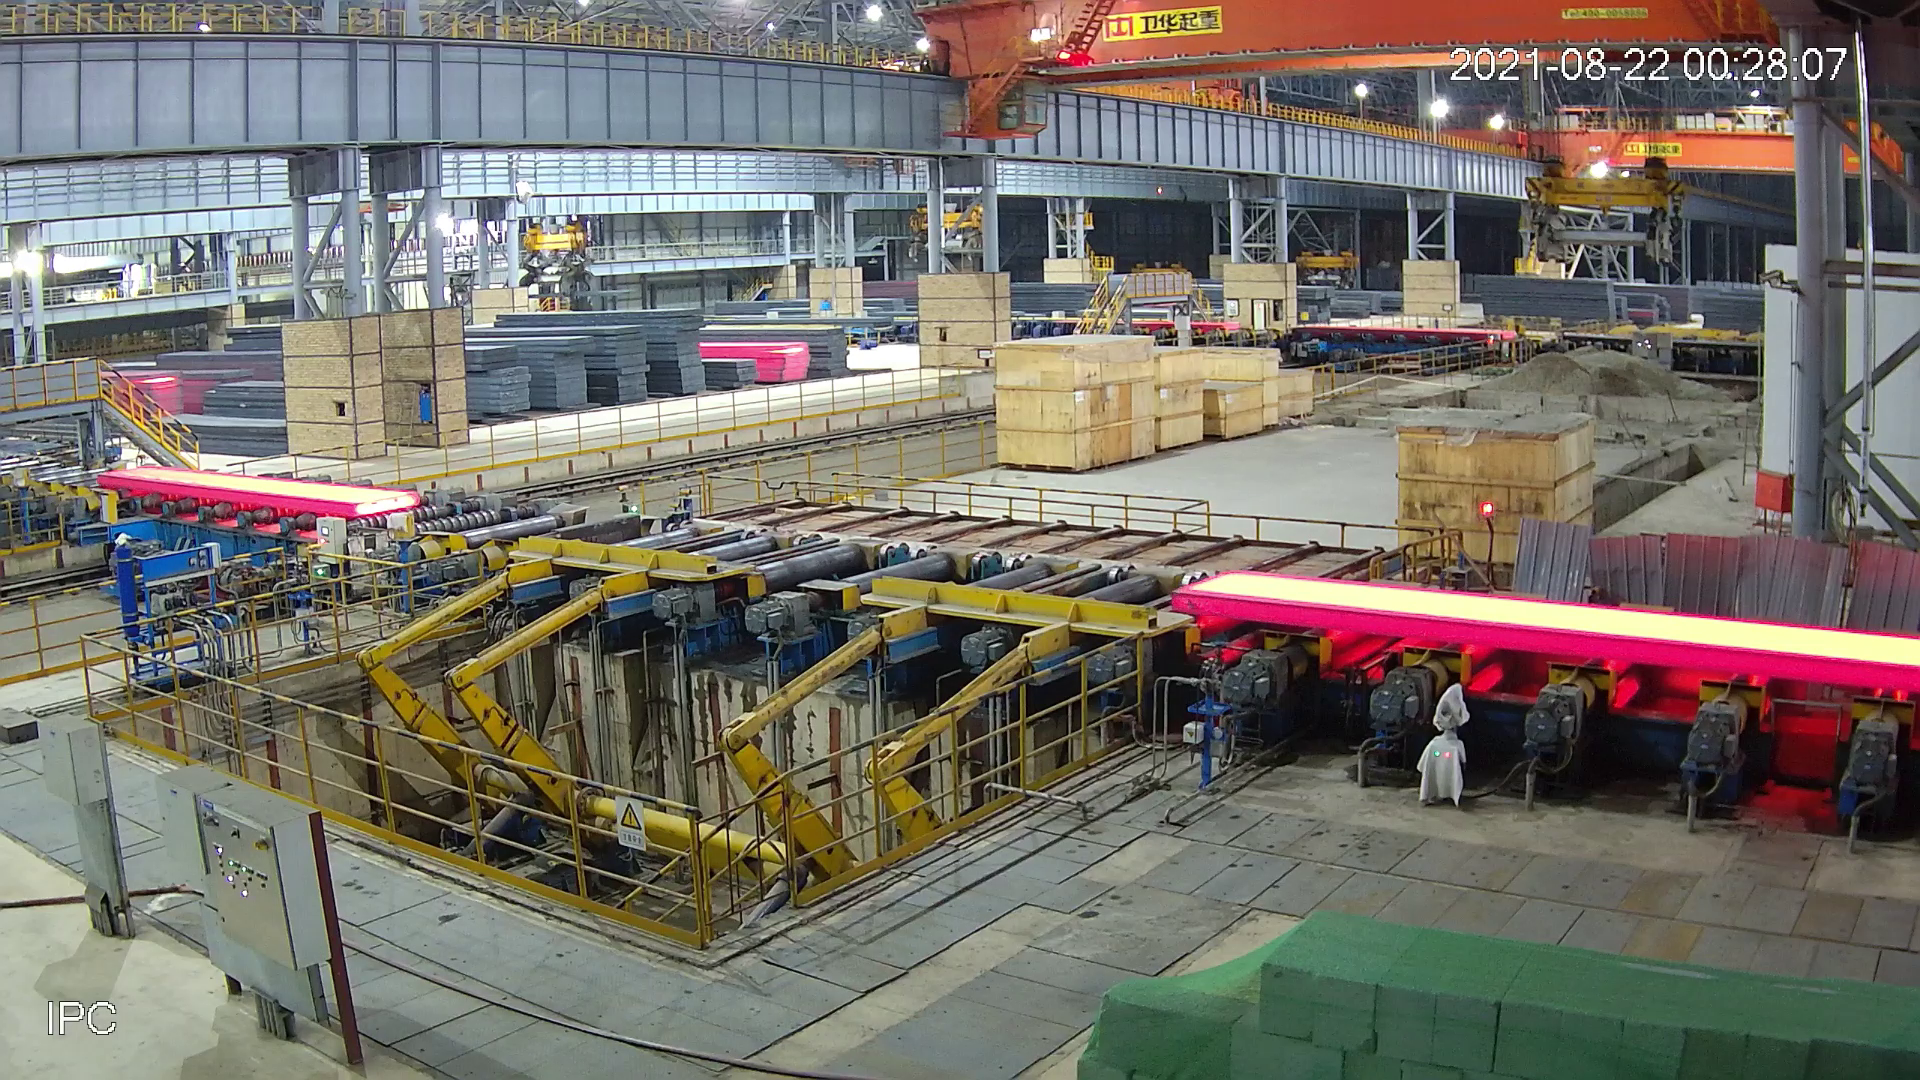slab: (1174, 560, 1920, 699), (86, 463, 438, 520)
